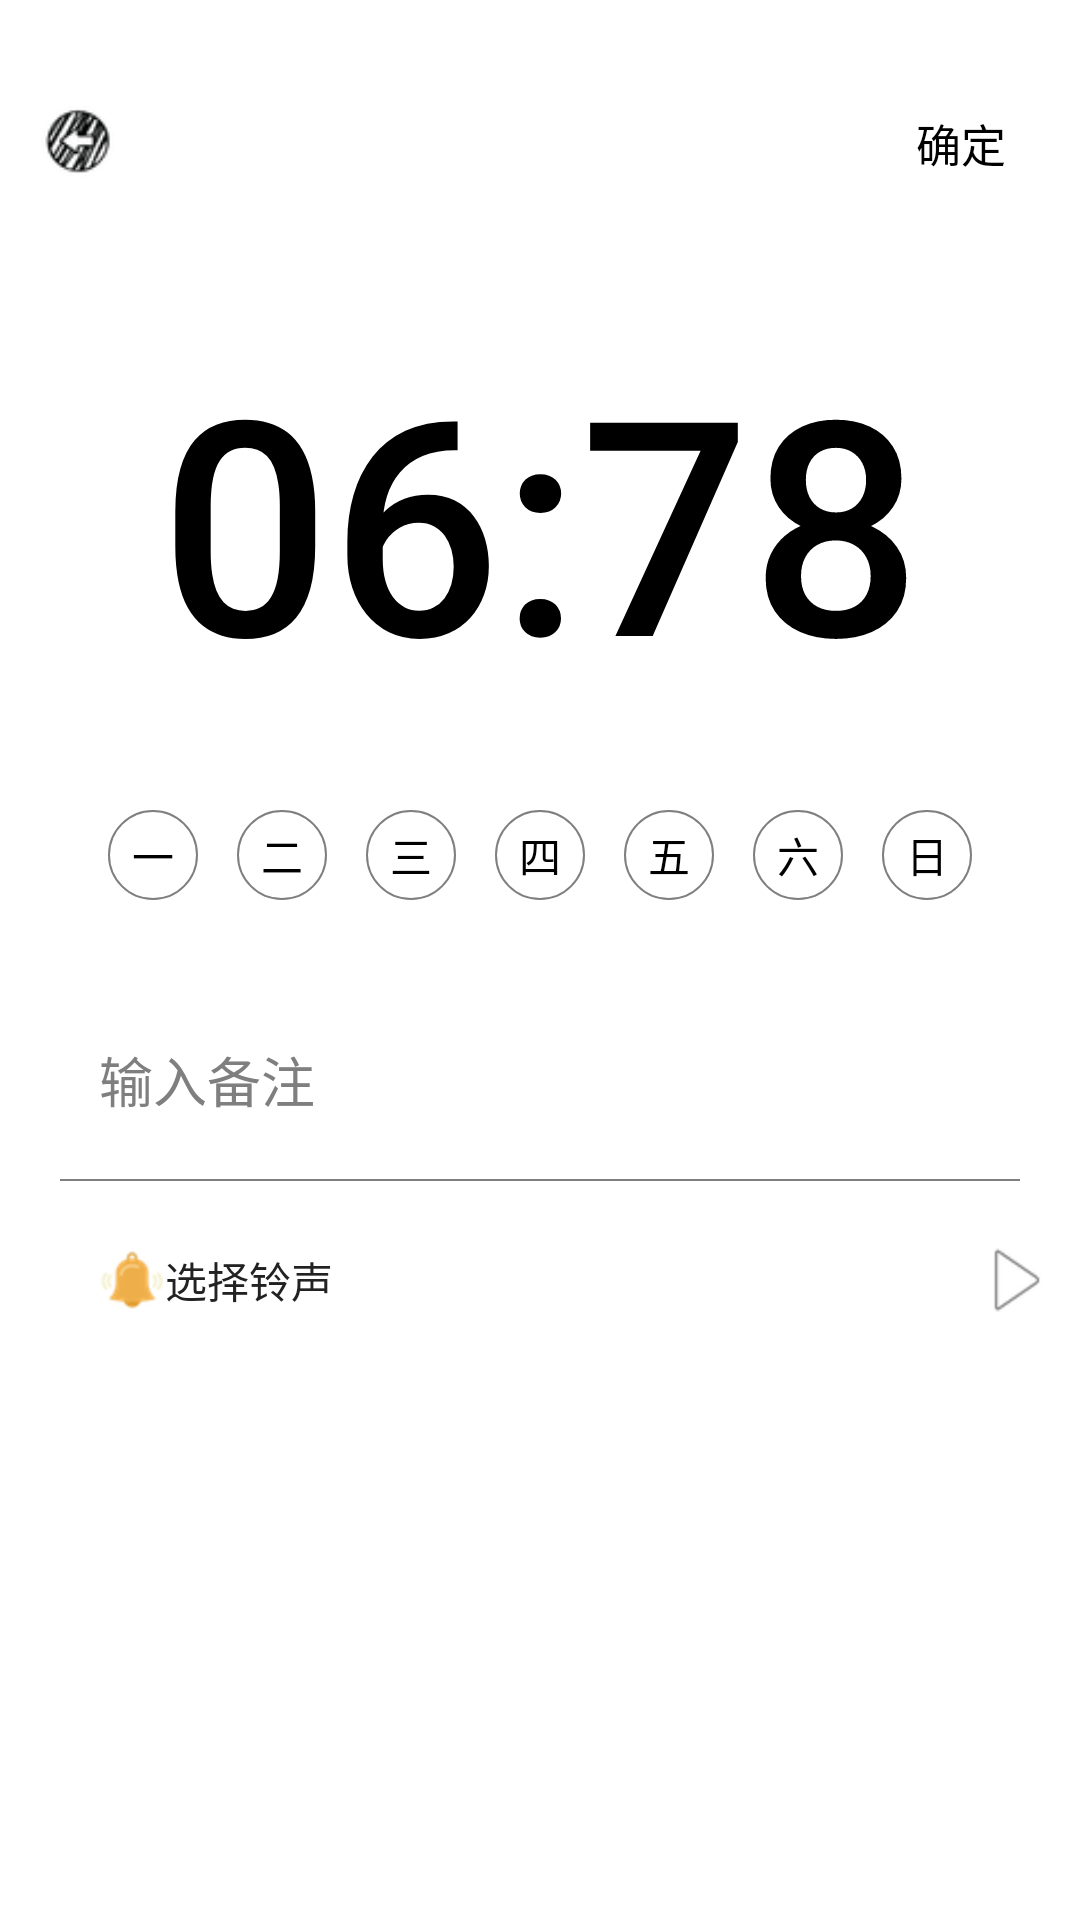

Locate icon controls on the screen. Image size 1080 × 1920, boxes as [x1, y1, x2, y2].
back: [45, 110, 110, 173]
